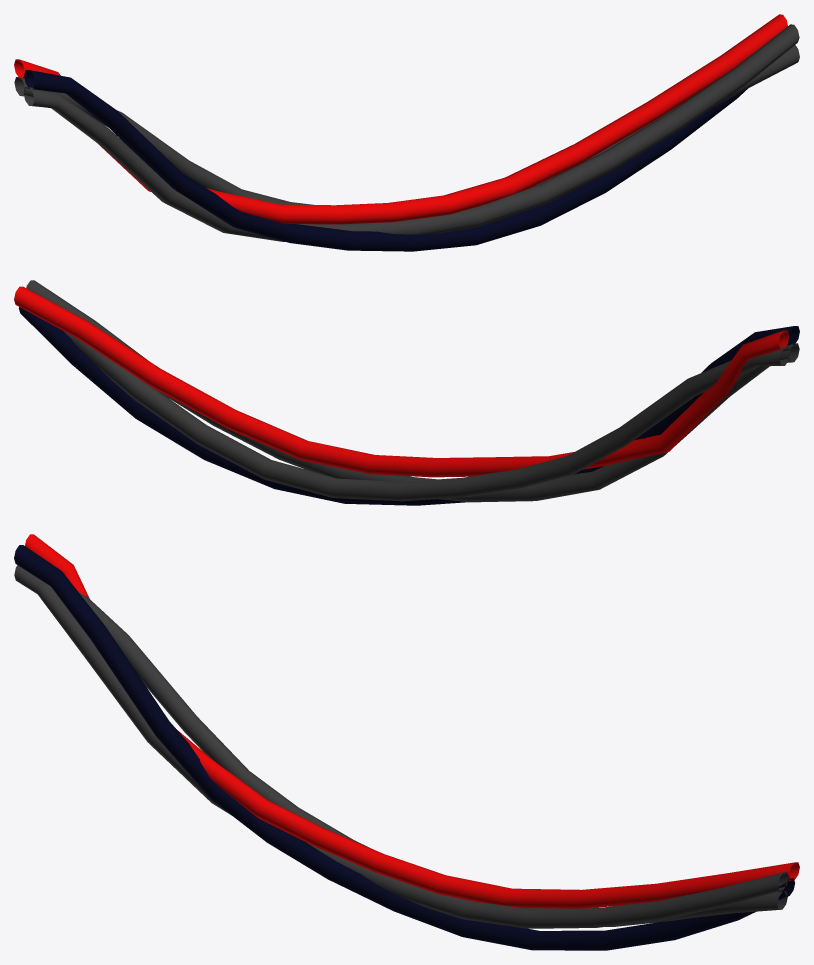
The model's file is BunkerTunnelWires.FBX.
3 views of the same model, one above another, from view 1: azimuth 30°, elevation 25°; view 2: azimuth 150°, elevation 25°; view 3: azimuth 330°, elevation 25° (orthographic).
Visible parts, largest first — view 1: BunkerTunnelWires; view 2: BunkerTunnelWires; view 3: BunkerTunnelWires.
Part boxes in pixels (x1,y1,x2,y2): BunkerTunnelWires: (14,14,799,251); BunkerTunnelWires: (14,280,799,505); BunkerTunnelWires: (14,534,799,950).
Bounding box in the file's own units: 95.02 × 6.44 × 34.21.
